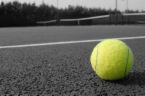tennis ball: (89, 38, 135, 80)
